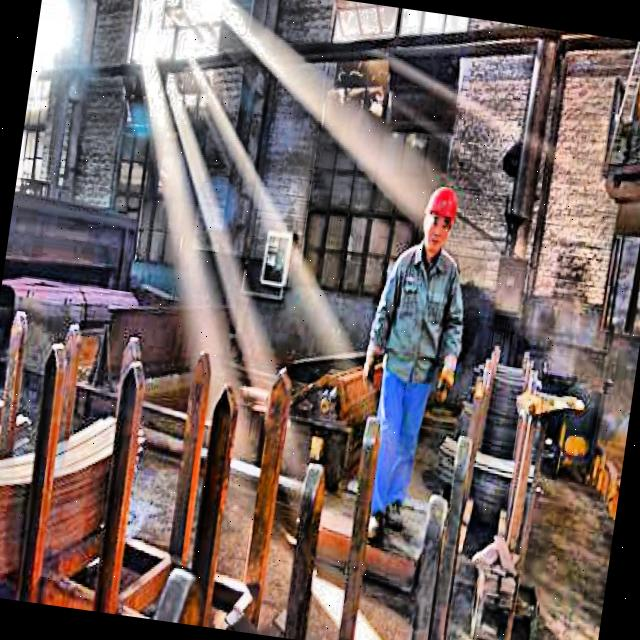helmet: (416, 172, 468, 260)
